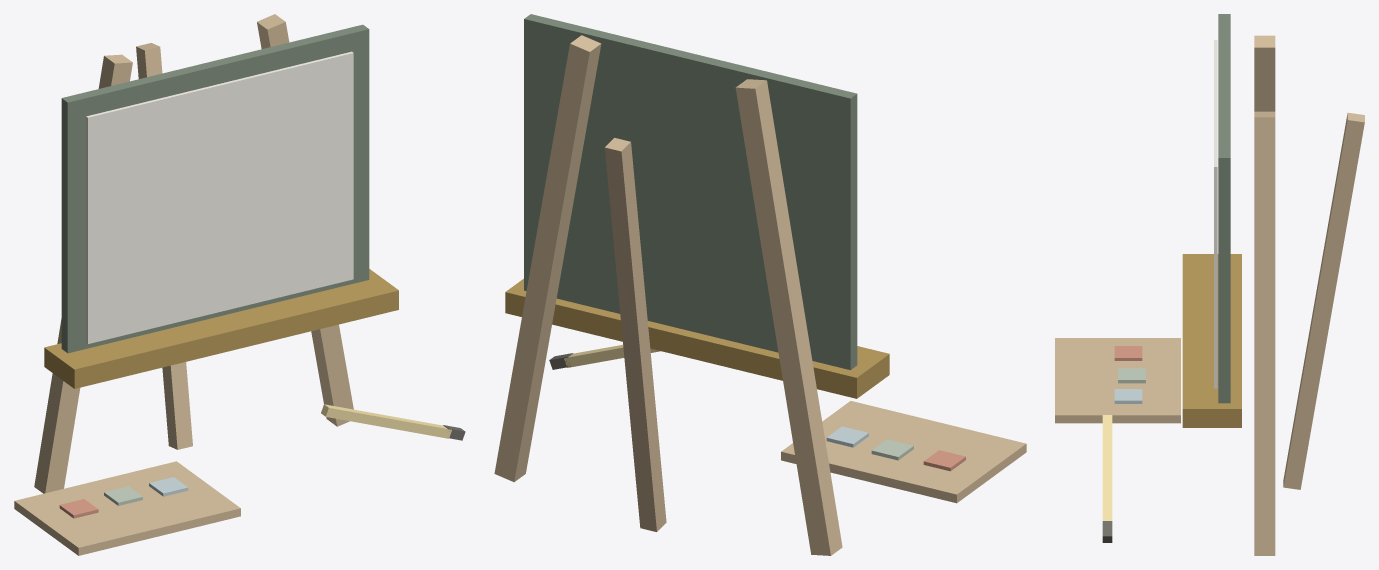
The model's file is illustration.gltf.
3 views of the same model, side by side, from view 1: azimuth 30°, elevation 25°; view 2: azimuth 150°, elevation 25°; view 3: azimuth 270°, elevation 25° (orthographic). The views are drawn at different scales.
Visible parts, largest first — view 1: hotspot_sketch, CanvasBack, EaselShelf, Palette, EaselLeft, EaselRight, EaselBack, Pencil; view 2: CanvasBack, EaselLeft, EaselRight, Palette, EaselBack, EaselShelf, Pencil; view 3: EaselRight, Palette, EaselShelf, EaselBack, CanvasBack, EaselLeft, hotspot_sketch, Pencil, PaintB, PaintA, PaintC.
Part boxes in pixels (x1,y1,x2,y2): hotspot_sketch: (86,51,353,343); CanvasBack: (61,24,369,353); EaselShelf: (44,269,398,388); Palette: (14,461,240,555); EaselLeft: (34,54,132,493); EaselRight: (257,14,353,426); EaselBack: (136,43,192,449); Pencil: (321,404,451,438); CanvasBack: (524,14,857,369); EaselLeft: (735,79,842,555); EaselRight: (494,35,601,482); Palette: (781,401,1026,503); EaselBack: (604,138,666,531); EaselShelf: (505,278,889,398); Pencil: (564,344,660,367); EaselRight: (1254,111,1275,555); Palette: (1055,338,1180,423); EaselShelf: (1182,254,1241,427); EaselBack: (1283,112,1364,489); CanvasBack: (1218,14,1230,403); EaselLeft: (1254,35,1275,111); hotspot_sketch: (1214,40,1217,388); Pencil: (1102,415,1112,520); PaintB: (1118,368,1145,383); PaintA: (1114,346,1142,360); PaintC: (1114,389,1142,403).
Bounding box in the file's own units: 2.66 × 2.59 × 1.77.
